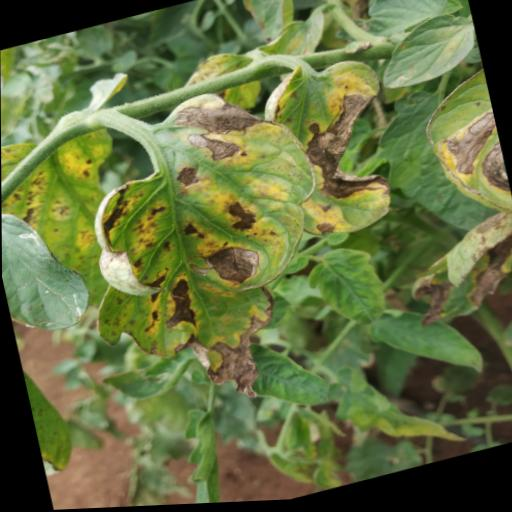Early Blight: (52, 72, 356, 439), (259, 47, 411, 258), (413, 73, 512, 237), (397, 212, 512, 332)
